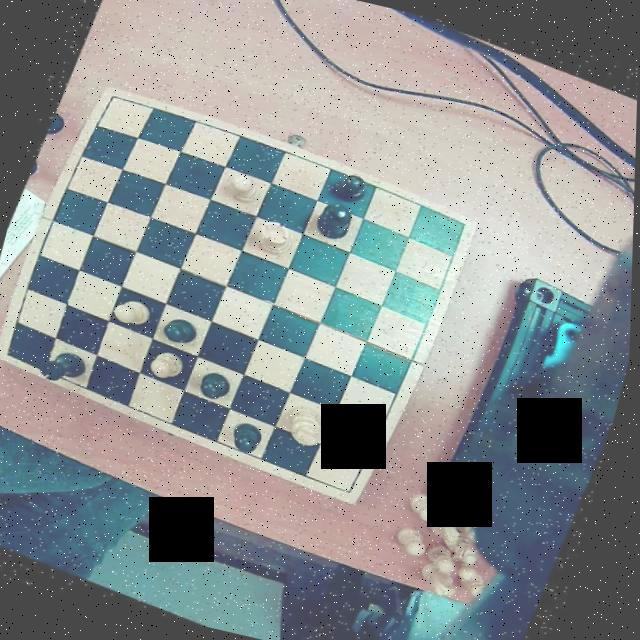chess-table-corners: (444, 212, 476, 241), (336, 475, 367, 503), (95, 86, 124, 112), (0, 342, 28, 366)
